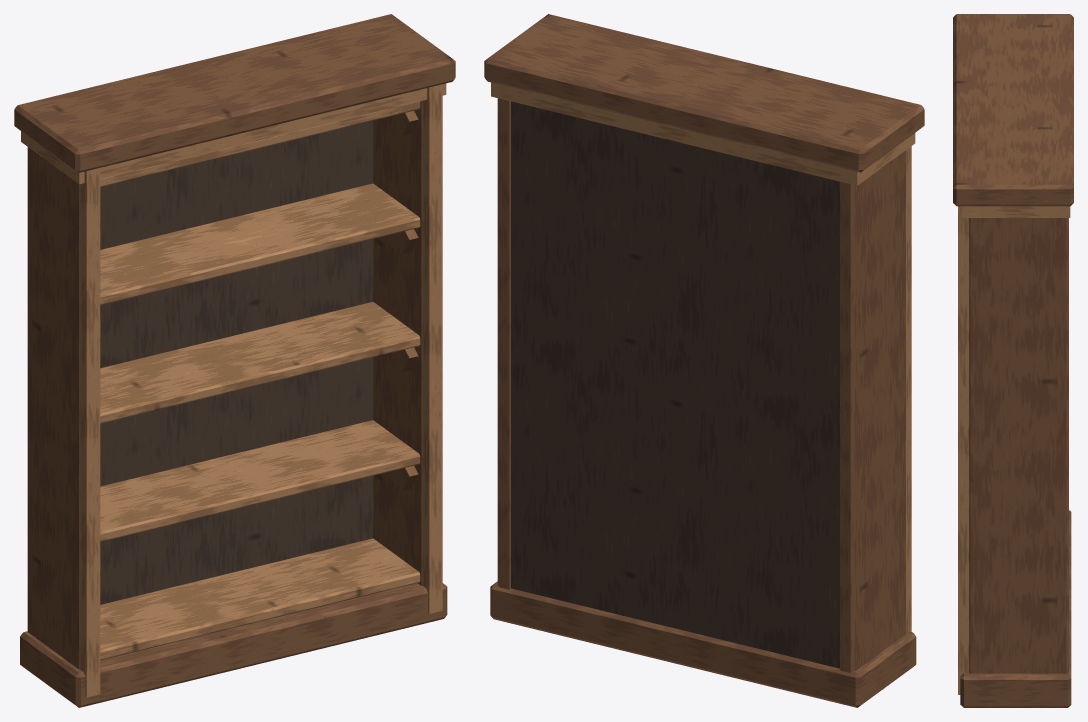
Rendered from wooden_bookshelf.glb.
3 renders of one model, left to right at view 1: azimuth 30°, elevation 25°; view 2: azimuth 150°, elevation 25°; view 3: azimuth 270°, elevation 25°, orthographic. The views are drawn at different scales.
Parts seen in each view (by area): view 1: wooden_bookshelf_side_panels, wooden_bookshelf_shelves, wooden_bookshelf_top_base; view 2: wooden_bookshelf_side_panels, wooden_bookshelf_top_base; view 3: wooden_bookshelf_side_panels, wooden_bookshelf_top_base.
Part boxes in pixels (<box>): wooden_bookshelf_side_panels: <box>27,84,442,697</box>; wooden_bookshelf_shelves: <box>100,101,420,660</box>; wooden_bookshelf_top_base: <box>14,14,455,707</box>; wooden_bookshelf_side_panels: <box>497,98,911,672</box>; wooden_bookshelf_top_base: <box>484,14,924,707</box>; wooden_bookshelf_side_panels: <box>958,206,1068,694</box>; wooden_bookshelf_top_base: <box>953,14,1073,707</box>.
Size of what is drawn, in the model's own units: 1.7 by 2.4 by 0.5.
3 materials, 3 textured.
